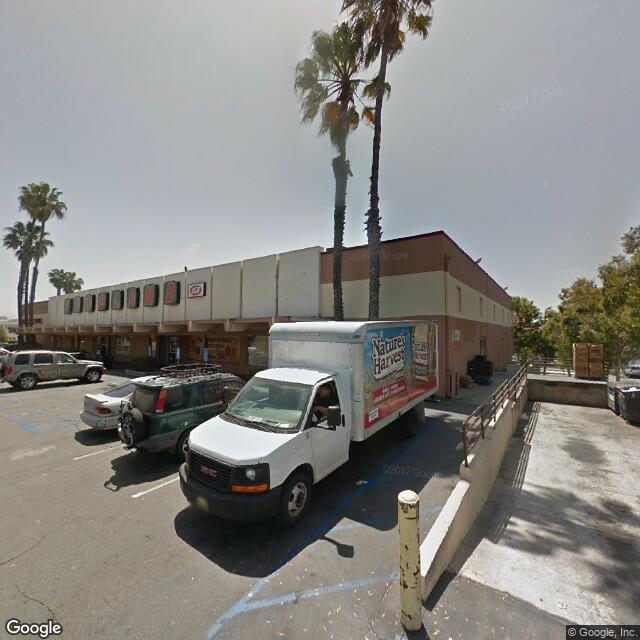litter: (351, 472, 369, 493)
